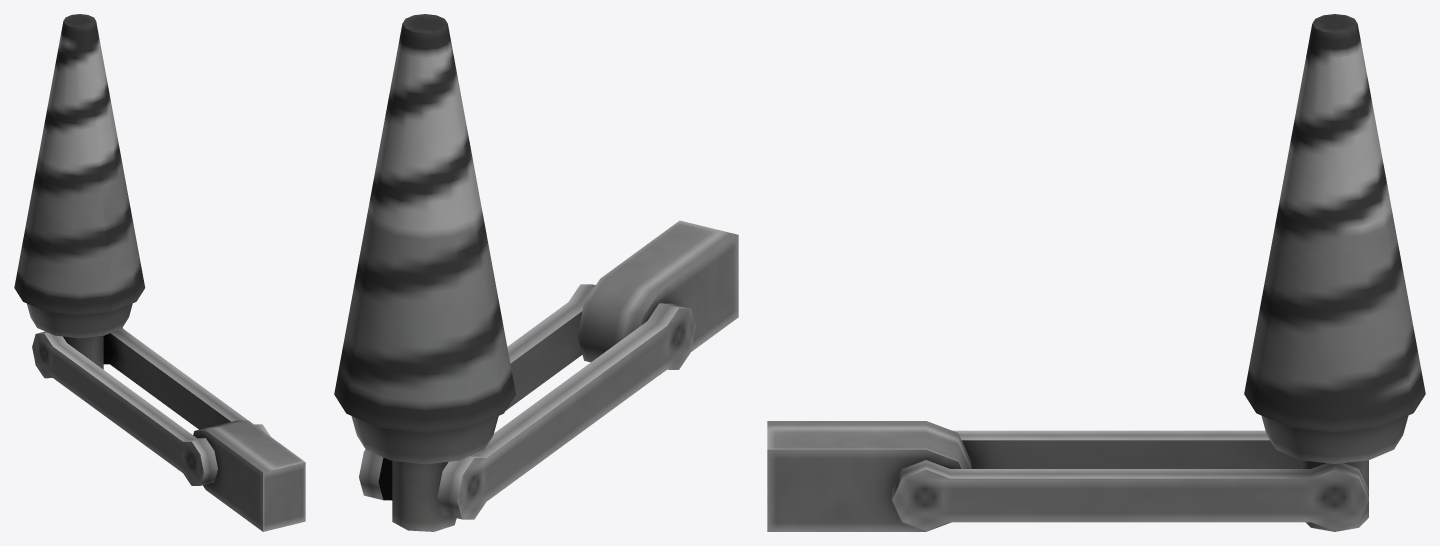
The model's file is ye8_low_gain_antenna_srf_1.obj.
3 renders of one model, left to right at view 1: azimuth 30°, elevation 25°; view 2: azimuth 150°, elevation 25°; view 3: azimuth 270°, elevation 25°, orthographic. The views are drawn at different scales.
Parts seen in each view (by area): view 1: 1; view 2: 1; view 3: 1.
Boxes of the visible parts, <box> form: 1: <box>14,14,305,531</box>; 1: <box>334,14,738,531</box>; 1: <box>767,14,1425,531</box>.
Size of the model in its own units: 0.1 by 0.3 by 0.3625.
Materials: 1 (1 with a texture image).
